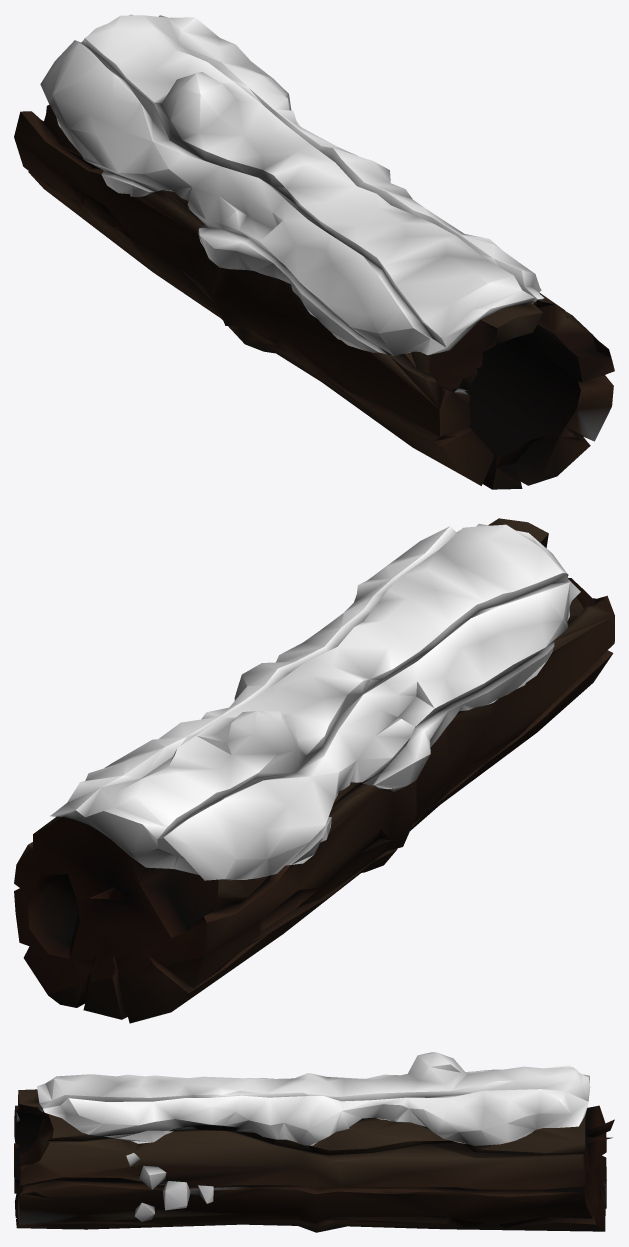
Rendered from log_moss.glb.
3 renders of one model, top to bottom at view 1: azimuth 30°, elevation 25°; view 2: azimuth 150°, elevation 25°; view 3: azimuth 270°, elevation 25°, orthographic. The views are drawn at different scales.
Visible parts, largest first — view 1: log_moss_LOD0; view 2: log_moss_LOD0; view 3: log_moss_LOD0.
Part boxes in pixels (x1,y1,x2,y2): log_moss_LOD0: (14, 14, 614, 489); log_moss_LOD0: (14, 518, 614, 1023); log_moss_LOD0: (14, 1052, 614, 1232).
Size of what is drawn, in the model's own units: 0.9586 by 0.8853 by 3.12.
